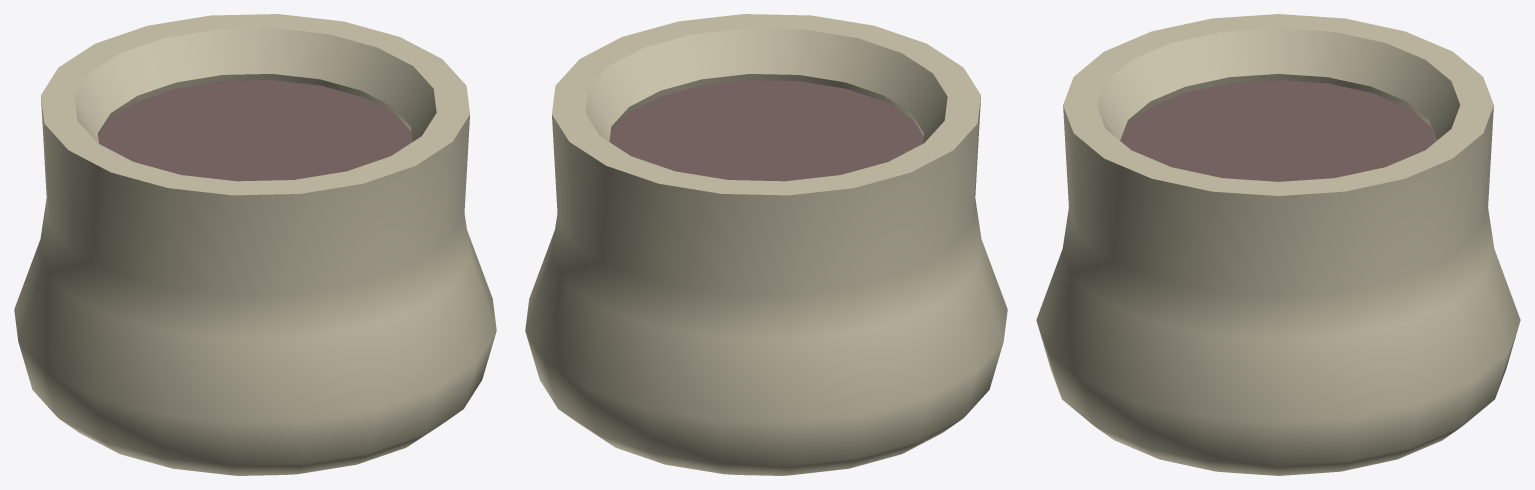
Rendered from Plant3_Pot.fbx.
3 views of the same model, side by side, from view 1: azimuth 30°, elevation 25°; view 2: azimuth 150°, elevation 25°; view 3: azimuth 270°, elevation 25° (orthographic).
Visible parts, largest first — view 1: Plant3_Pot; view 2: Plant3_Pot; view 3: Plant3_Pot.
Part boxes in pixels (left/top/right/bottom): Plant3_Pot: left=14, top=14, right=496, bottom=475; Plant3_Pot: left=525, top=14, right=1007, bottom=475; Plant3_Pot: left=1036, top=14, right=1520, bottom=475.
Size of the model in its own units: 36.99 by 27 by 36.99.
